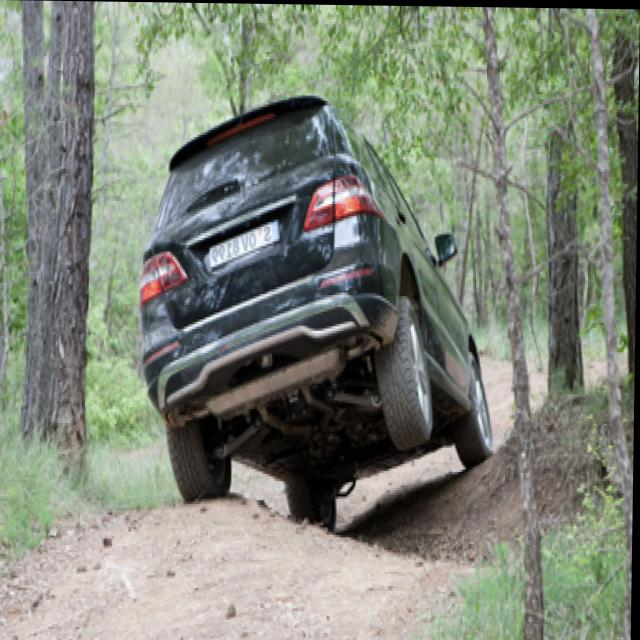licence: (205, 201, 281, 284)
